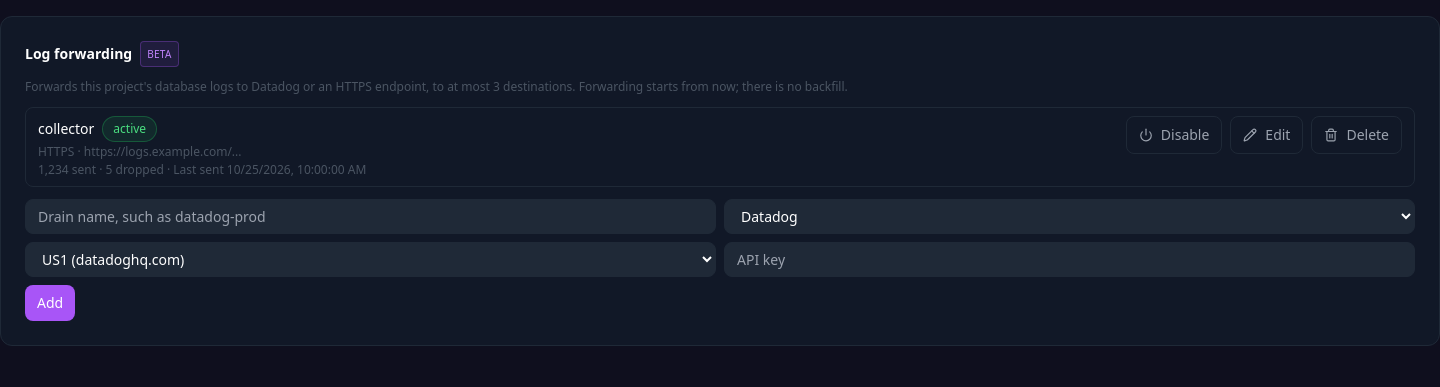
Scenario: LogDrainsCard › a new path on the same host also needs the header value again
Click the button with test id "log-drain-edit-ld_ffffffffffffffff".
click(1267, 135)  # box left=1230, top=116, right=1304, bottom=154
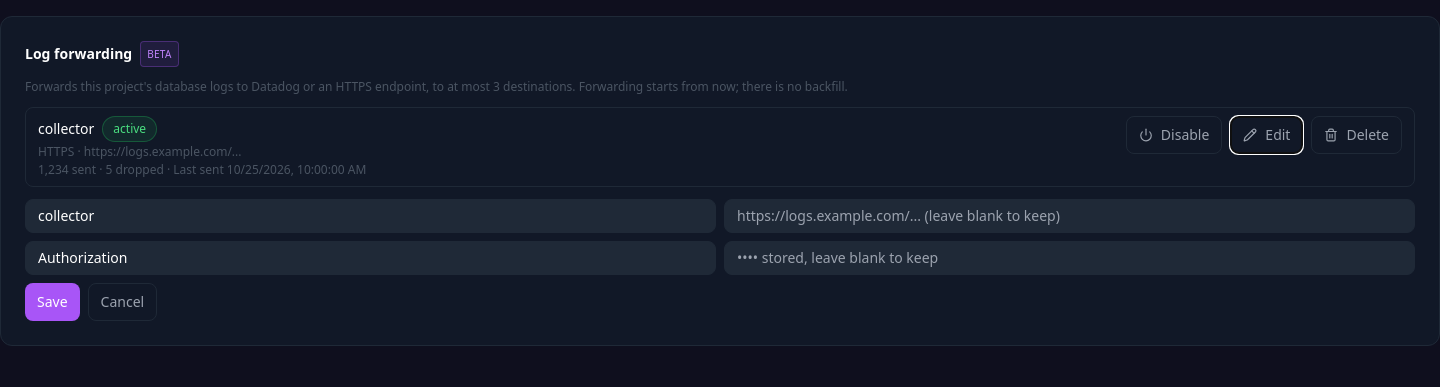
Type "https://logs.example.com/v2" into the field with test id "log-drain-url".
click(1070, 216); type("https://logs.example.com/v2")  # box left=724, top=199, right=1415, bottom=233
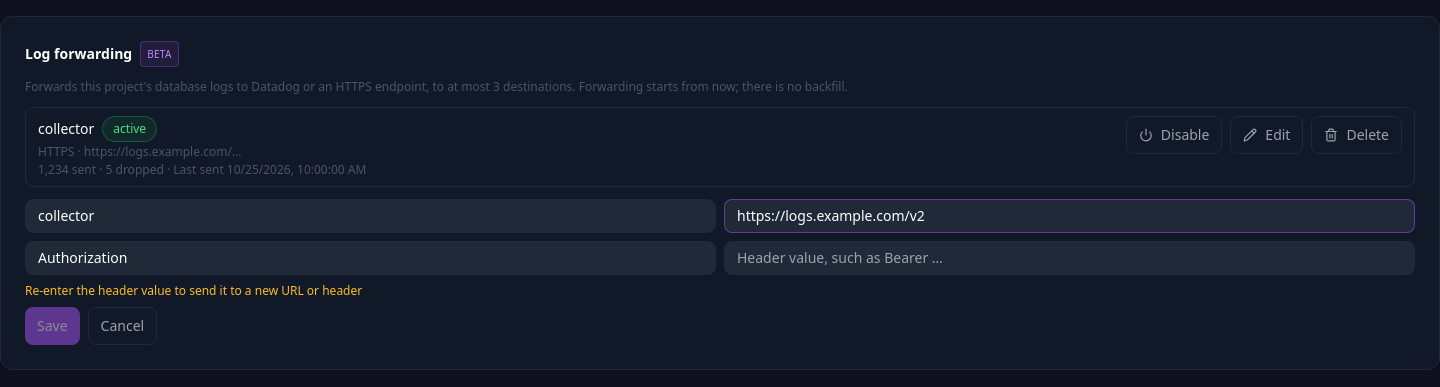
Expected: the text "Re-enter the header value to send it to a new URL or header" is shown, left=25, top=282, right=362, bottom=299
Expected: the button with test id "log-drain-submit" is disabled, left=25, top=307, right=80, bottom=345
